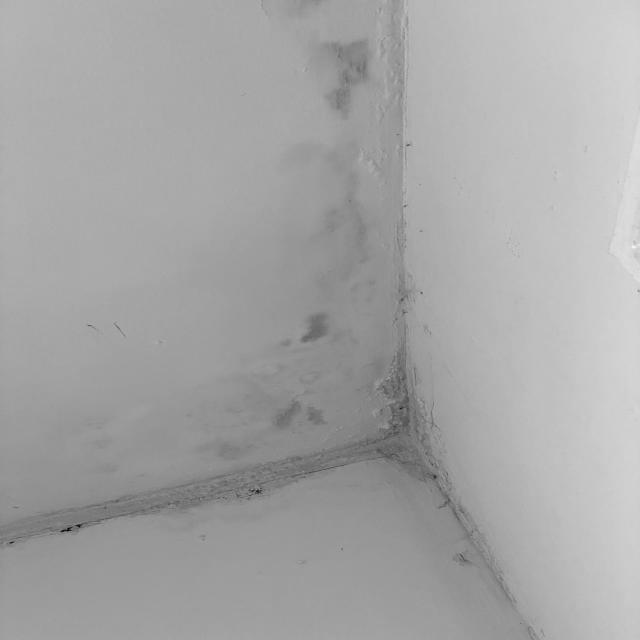stain marks: (250, 450, 550, 634), (0, 365, 246, 544), (264, 132, 408, 302), (247, 304, 410, 448), (268, 0, 400, 132), (78, 311, 156, 354)
